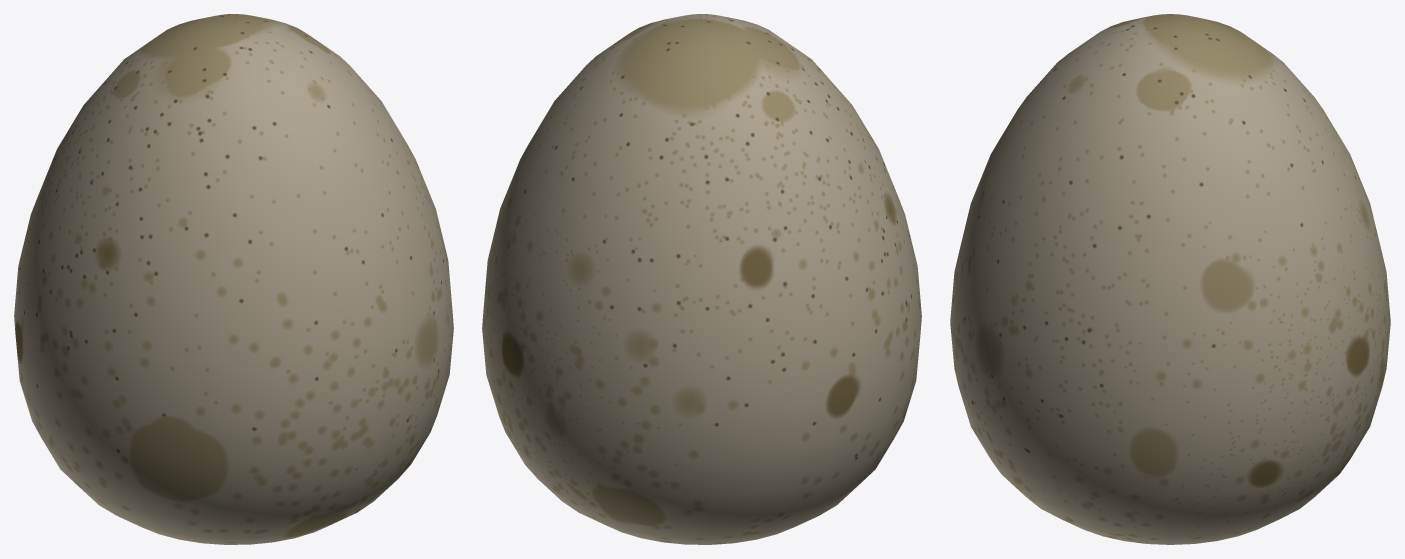
The model's file is Egg.FBX.
3 renders of one model, left to right at view 1: azimuth 30°, elevation 25°; view 2: azimuth 150°, elevation 25°; view 3: azimuth 270°, elevation 25°, orthographic.
Visible parts, largest first — view 1: EGG; view 2: EGG; view 3: EGG.
Part boxes in pixels (x1,y1,x2,y2): EGG: (14, 14, 453, 544); EGG: (482, 14, 921, 544); EGG: (950, 14, 1390, 544).
Size of the model in its own units: 3.22 by 3.98 by 3.22.
